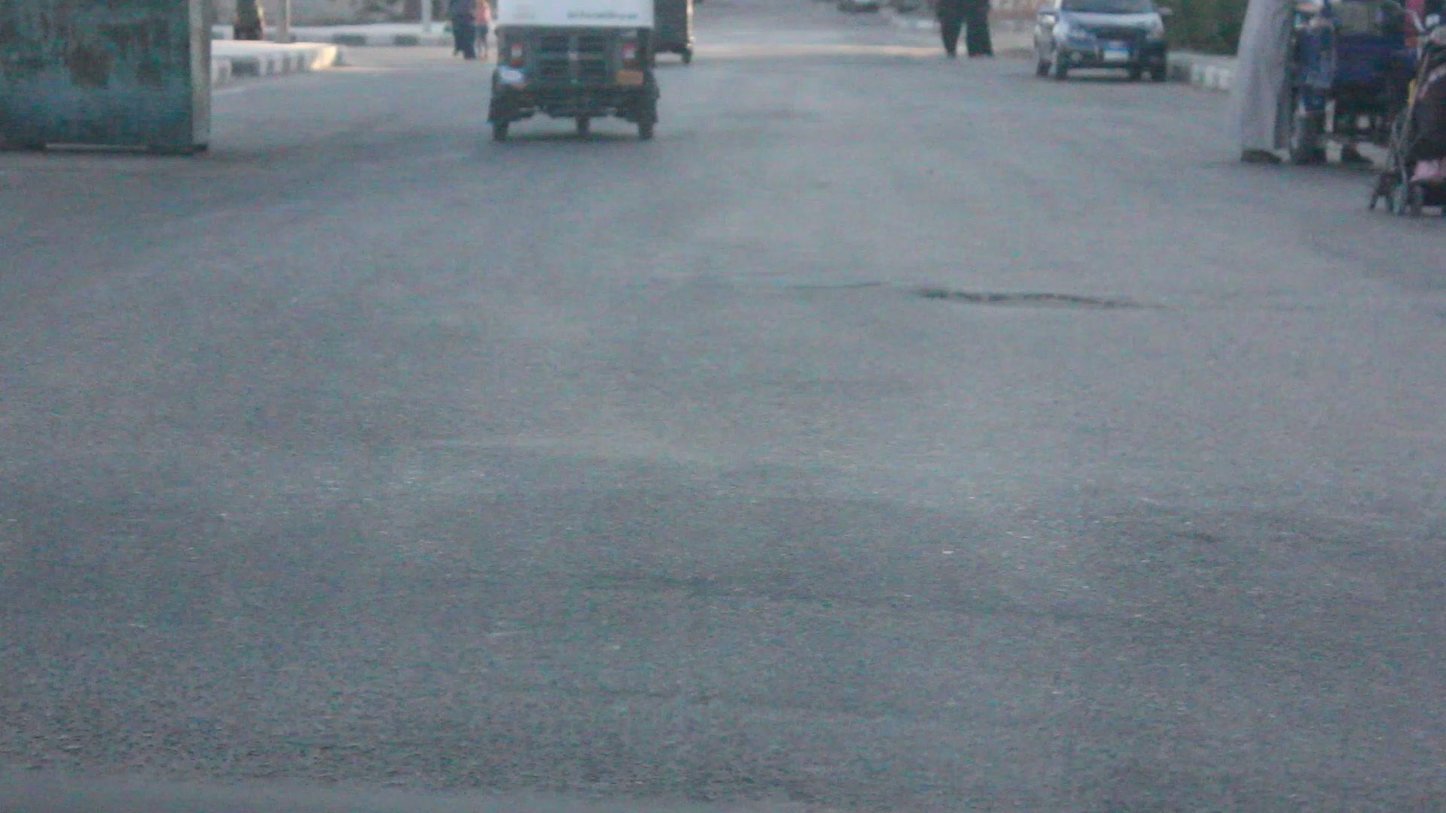Bump: (0, 412, 1446, 708)
Pothole: (870, 252, 1261, 354)
